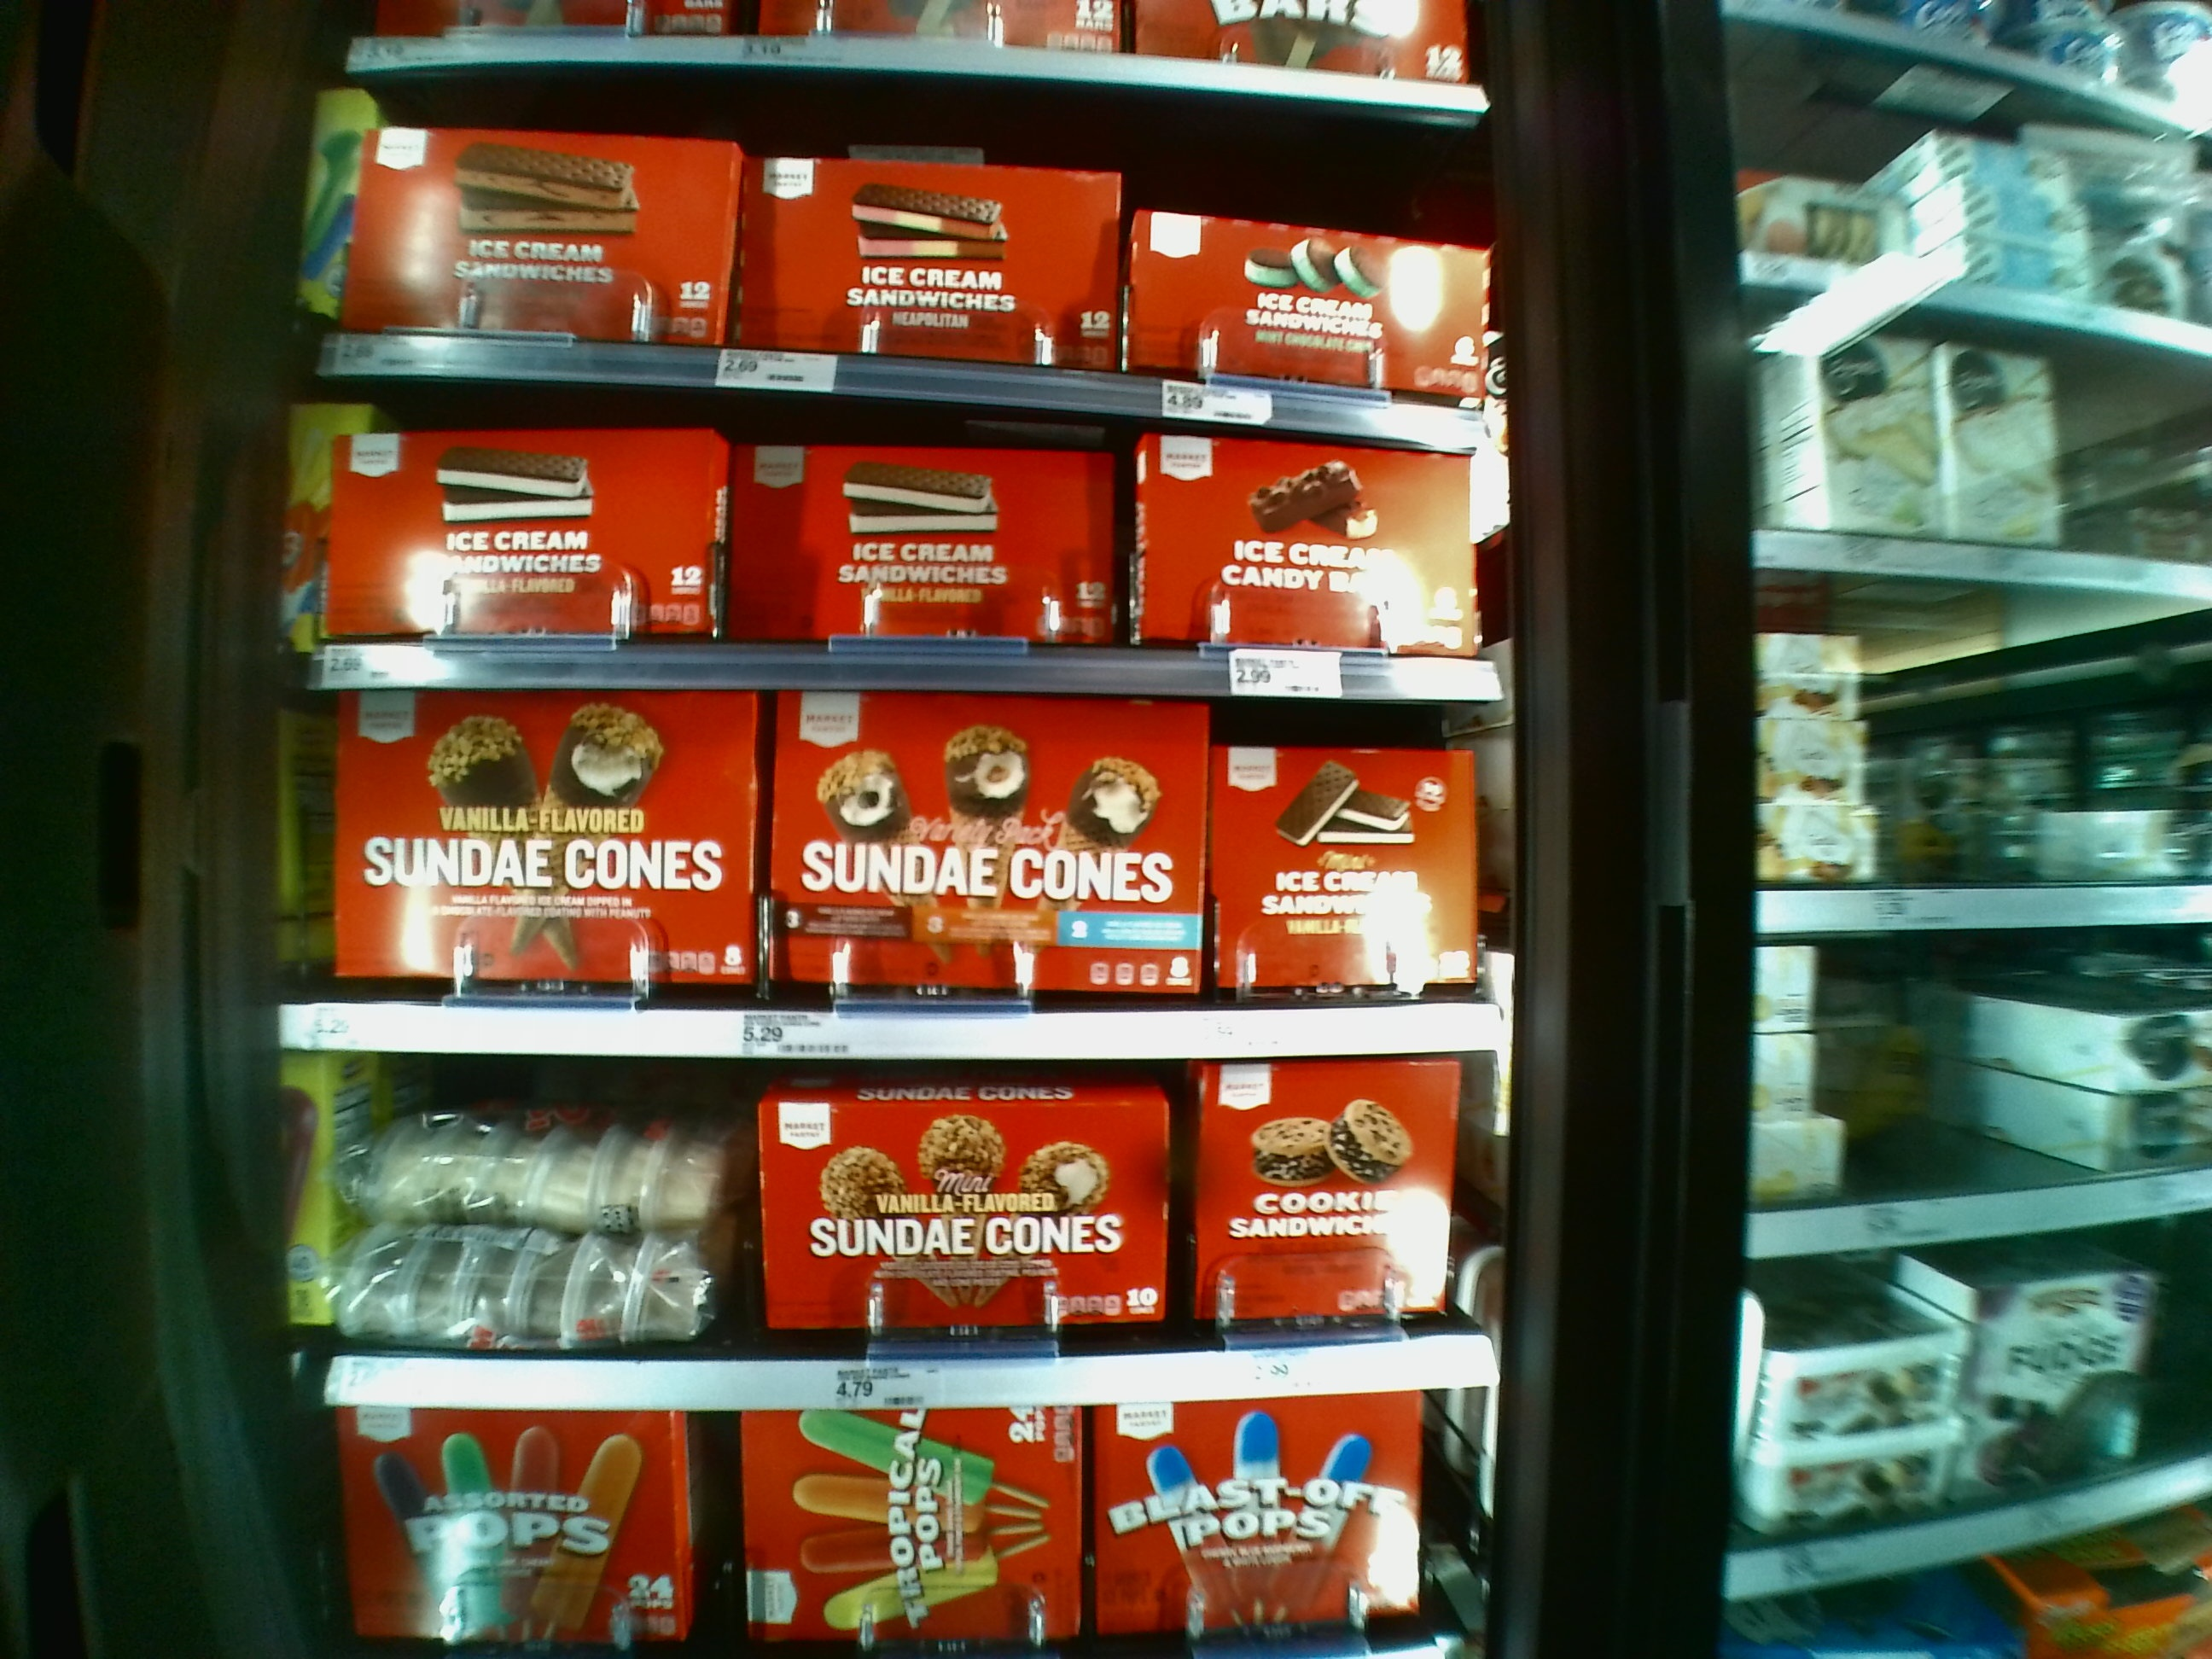shelf: (322, 66, 1480, 437), (319, 1058, 1494, 1415), (293, 702, 1489, 1053), (296, 399, 1501, 706)
